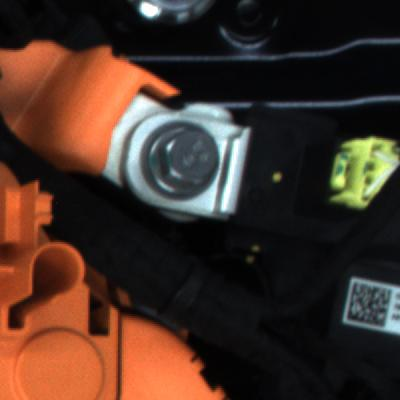nut_b: (135, 114, 230, 205)
